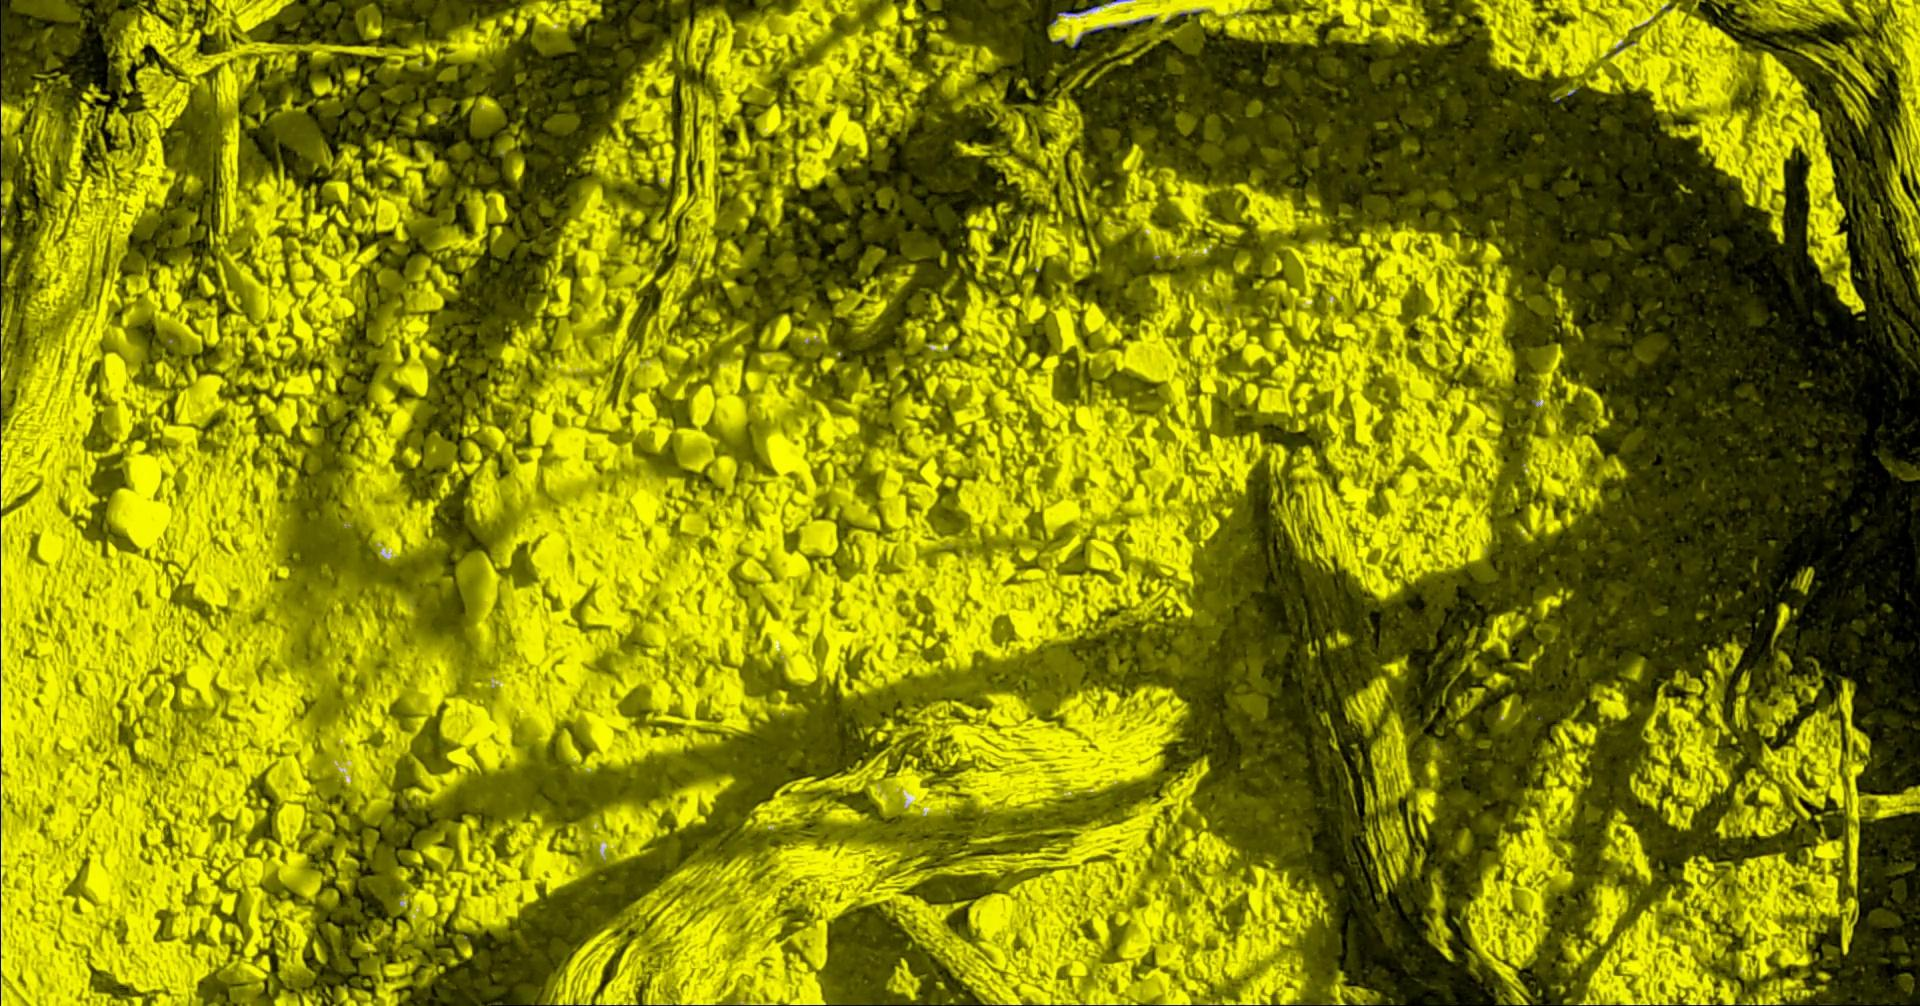ant: (1070, 25, 1116, 47)
